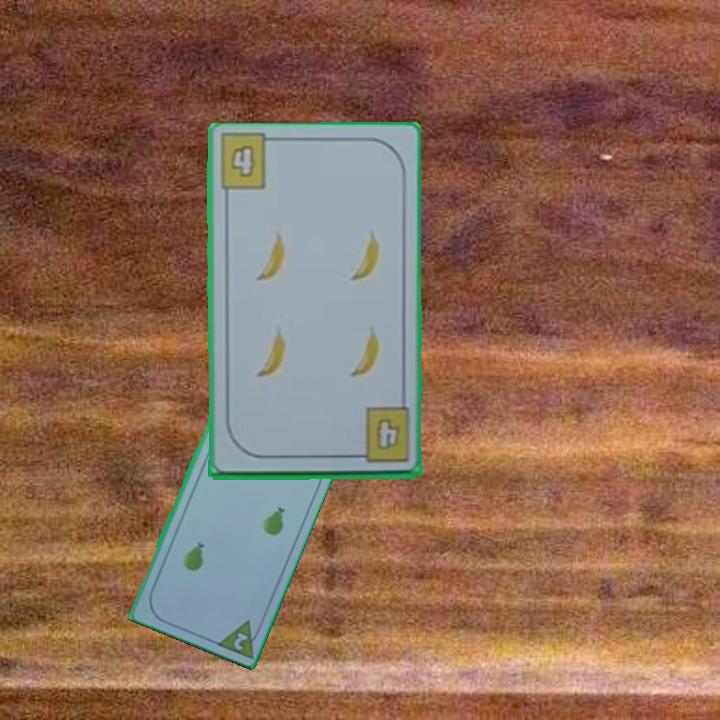2p: (211, 616, 265, 660)
4b: (348, 405, 413, 465), (227, 141, 258, 180)
